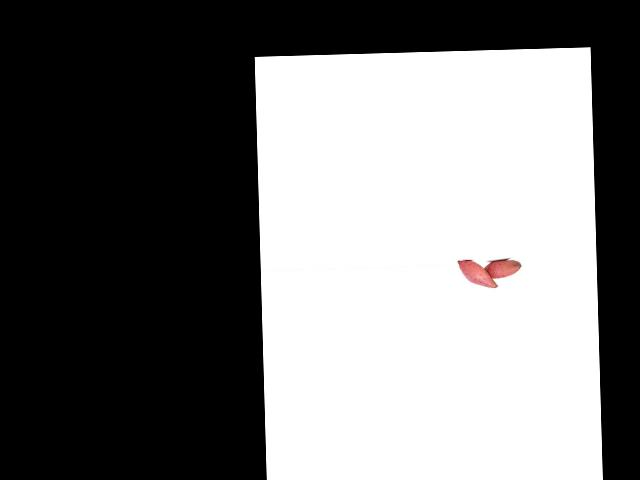sweet_potato: (480, 259, 523, 281)
